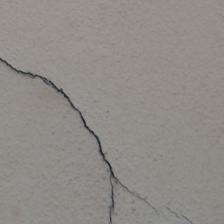Crack: (15, 25, 103, 137), (57, 31, 171, 82)
